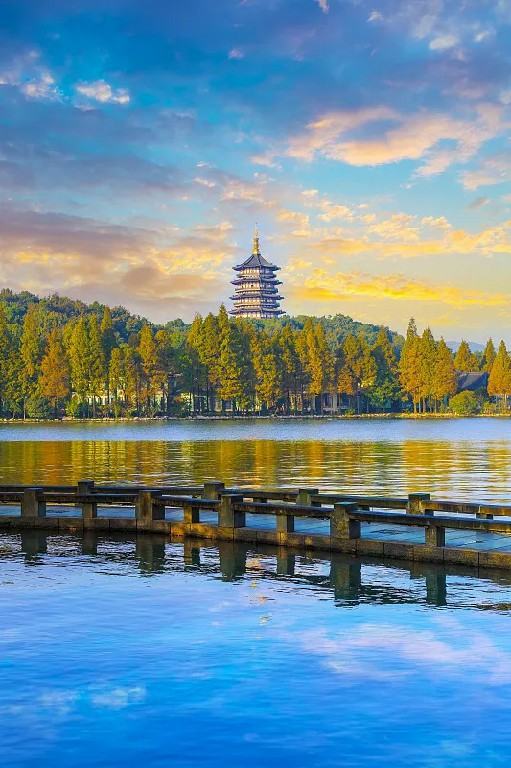Leifeng: (226, 221, 286, 321)
